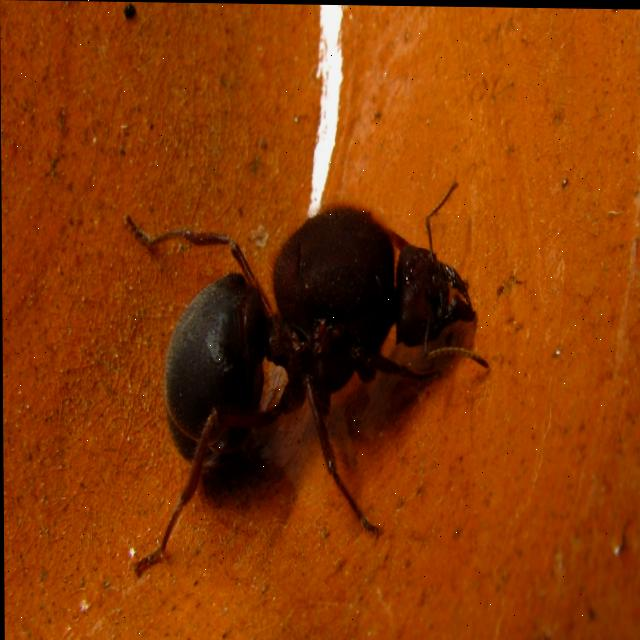Alive-Female-Dealate: (121, 175, 491, 585)
